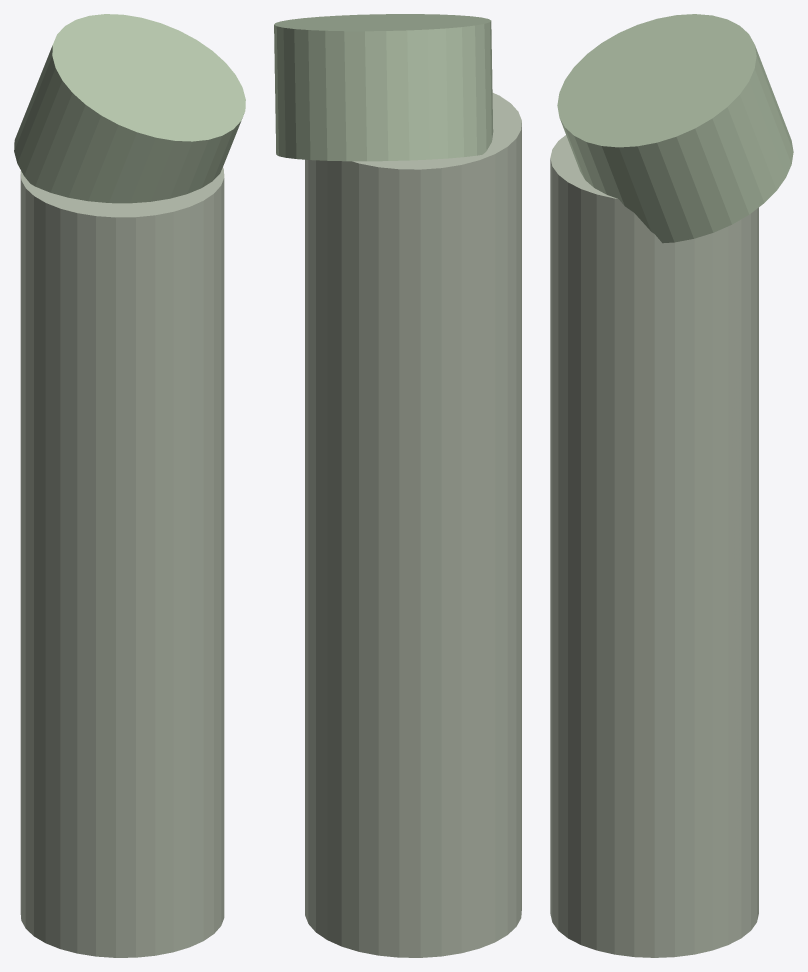
File: ruin_column.glb
3 renders of one model, left to right at view 1: azimuth 30°, elevation 25°; view 2: azimuth 150°, elevation 25°; view 3: azimuth 270°, elevation 25°, orthographic. The views are drawn at different scales.
Parts seen in each view (by area): view 1: Cylinder, Cylinder.001; view 2: Cylinder, Cylinder.001; view 3: Cylinder, Cylinder.001.
Boxes of the visible parts, left/top/right/bottom form: Cylinder: left=20, top=167, right=224, bottom=957; Cylinder.001: left=14, top=14, right=245, bottom=203; Cylinder: left=305, top=93, right=521, bottom=957; Cylinder.001: left=274, top=14, right=493, bottom=161; Cylinder: left=550, top=135, right=758, bottom=957; Cylinder.001: left=557, top=14, right=793, bottom=243.
Bounding box in the file's own units: 0.5735 × 2.33 × 0.5832.
